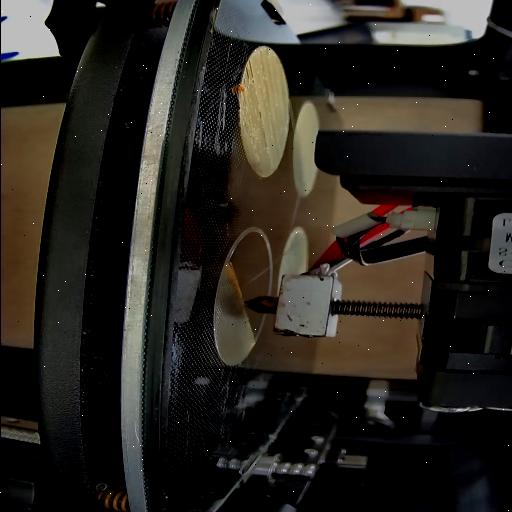under_extrusion: (257, 110, 271, 150), (240, 59, 256, 88), (262, 44, 273, 60)
